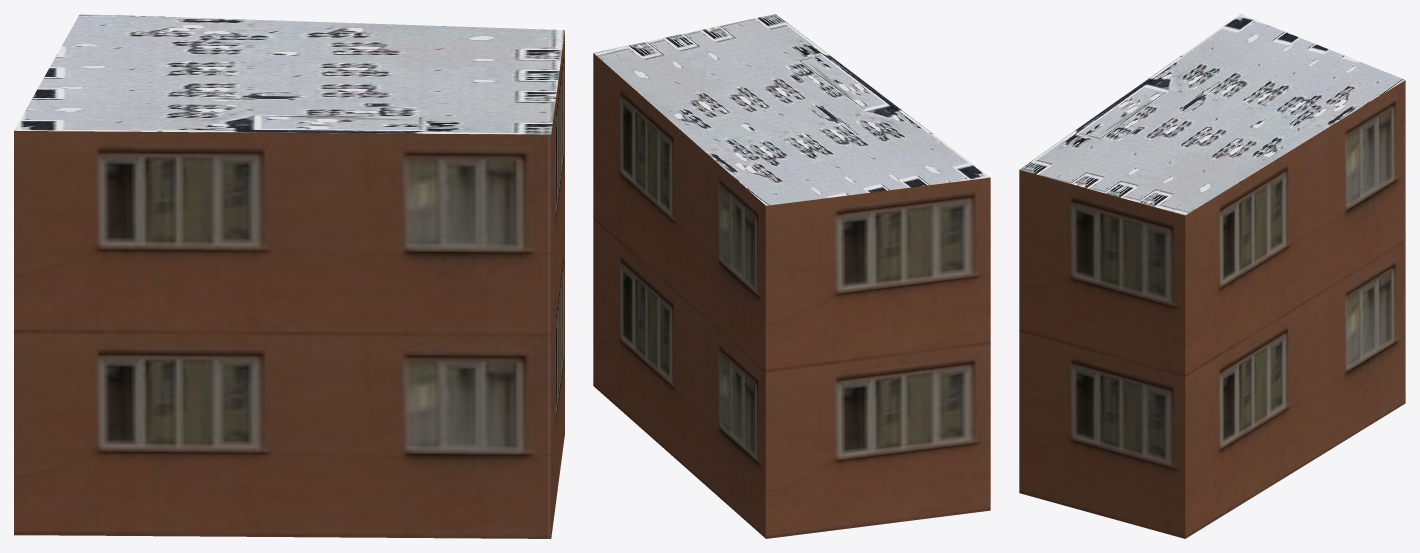
The model's file is ResTex__3721.fbx.
3 renders of one model, left to right at view 1: azimuth 30°, elevation 25°; view 2: azimuth 150°, elevation 25°; view 3: azimuth 270°, elevation 25°, orthographic. The views are drawn at different scales.
Parts seen in each view (by area): view 1: CityEngineMaterial_20_m, CityEngineMaterial_2_m; view 2: CityEngineMaterial_20_m, CityEngineMaterial_2_m; view 3: CityEngineMaterial_20_m, CityEngineMaterial_2_m.
Part boxes in pixels (bbox=[...]): CityEngineMaterial_20_m: bbox=[14, 31, 564, 538]; CityEngineMaterial_2_m: bbox=[14, 14, 564, 134]; CityEngineMaterial_20_m: bbox=[593, 53, 990, 538]; CityEngineMaterial_2_m: bbox=[594, 14, 989, 205]; CityEngineMaterial_20_m: bbox=[1019, 80, 1405, 538]; CityEngineMaterial_2_m: bbox=[1019, 14, 1405, 215].
Bounding box in the file's own units: 8.02 × 6 × 6.5.
Materials: 2 (2 with a texture image).
